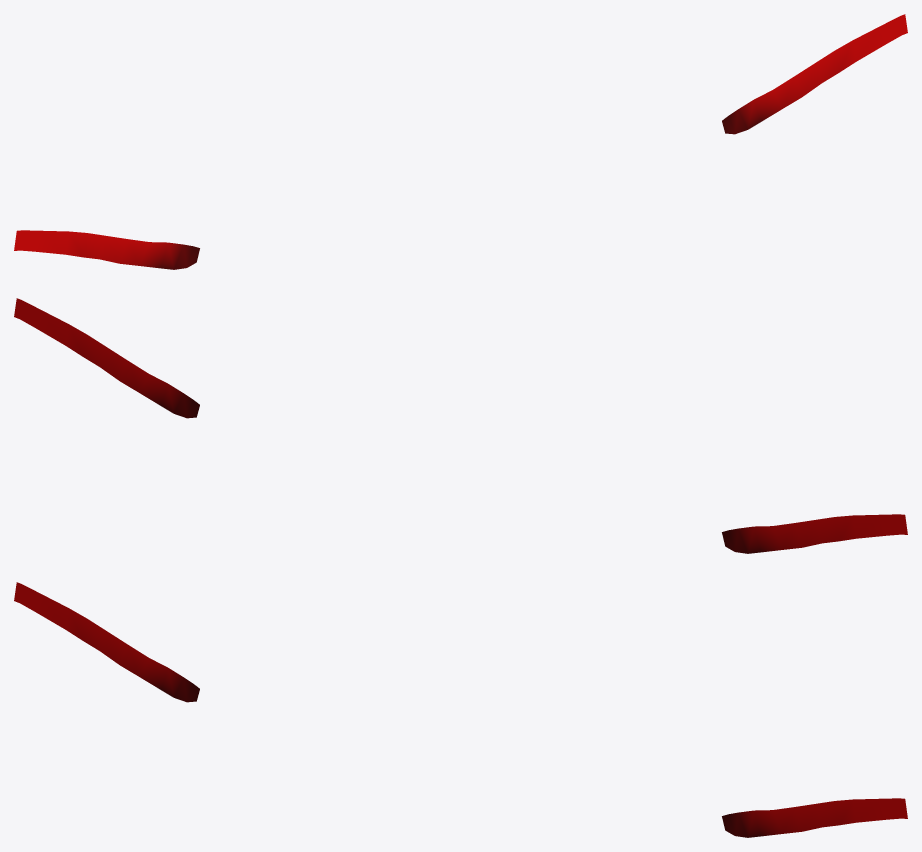
Rendered from frame193.fbx.
The picture shows the model from 3 angles, top to bottom: view 1: azimuth 30°, elevation 25°; view 2: azimuth 150°, elevation 25°; view 3: azimuth 330°, elevation 25°; orthographic projection.
Parts seen in each view (by area): view 1: MaterialLayer; view 2: MaterialLayer; view 3: MaterialLayer.
Boxes of the visible parts, left/top/right/bottom form: MaterialLayer: left=14, top=14, right=907, bottom=269; MaterialLayer: left=14, top=298, right=907, bottom=553; MaterialLayer: left=14, top=582, right=907, bottom=837.
Bounding box in the file's own units: 1565 × 132 × 2.52e-08.
